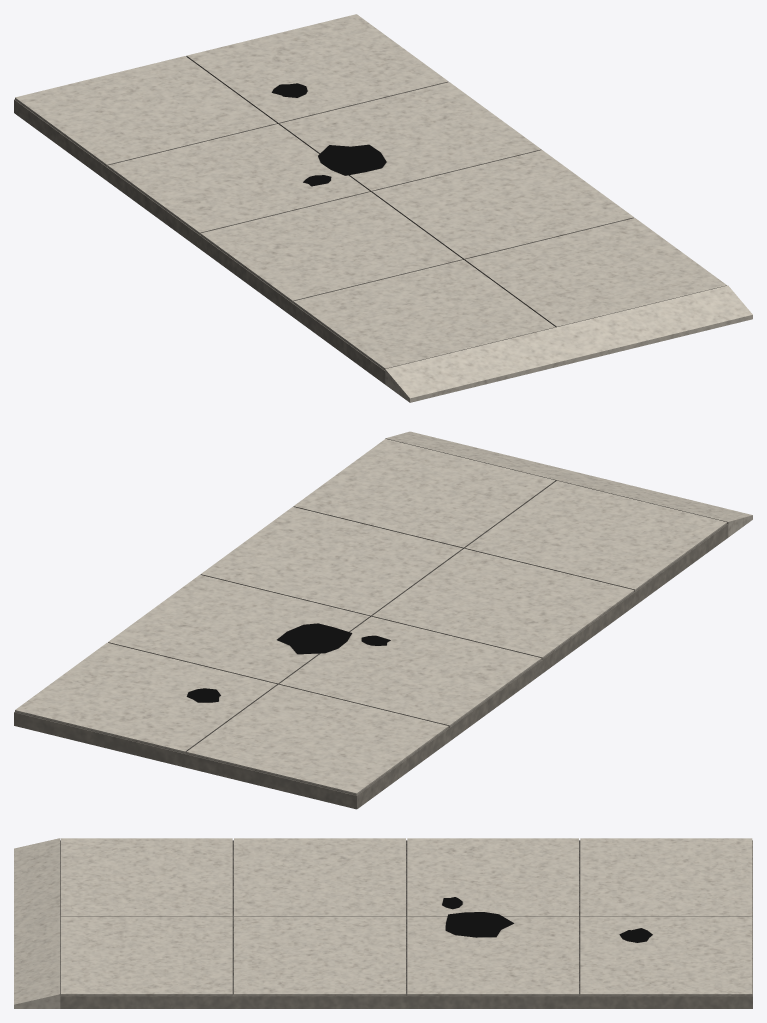
File: driveway.fbx
3 views of the same model, one above another, from view 1: azimuth 30°, elevation 25°; view 2: azimuth 150°, elevation 25°; view 3: azimuth 270°, elevation 25° (orthographic). The views are drawn at different scales.
Parts seen in each view (by area): view 1: Body; view 2: Body; view 3: Body.
Boxes of the visible parts, box(x1,y1,x2,y2) form: Body: box(14, 14, 752, 402); Body: box(14, 431, 752, 809); Body: box(14, 838, 752, 1008).
Bounding box in the file's own units: 16 × 0.71 × 32.
Materials: 1 (1 with a texture image).
